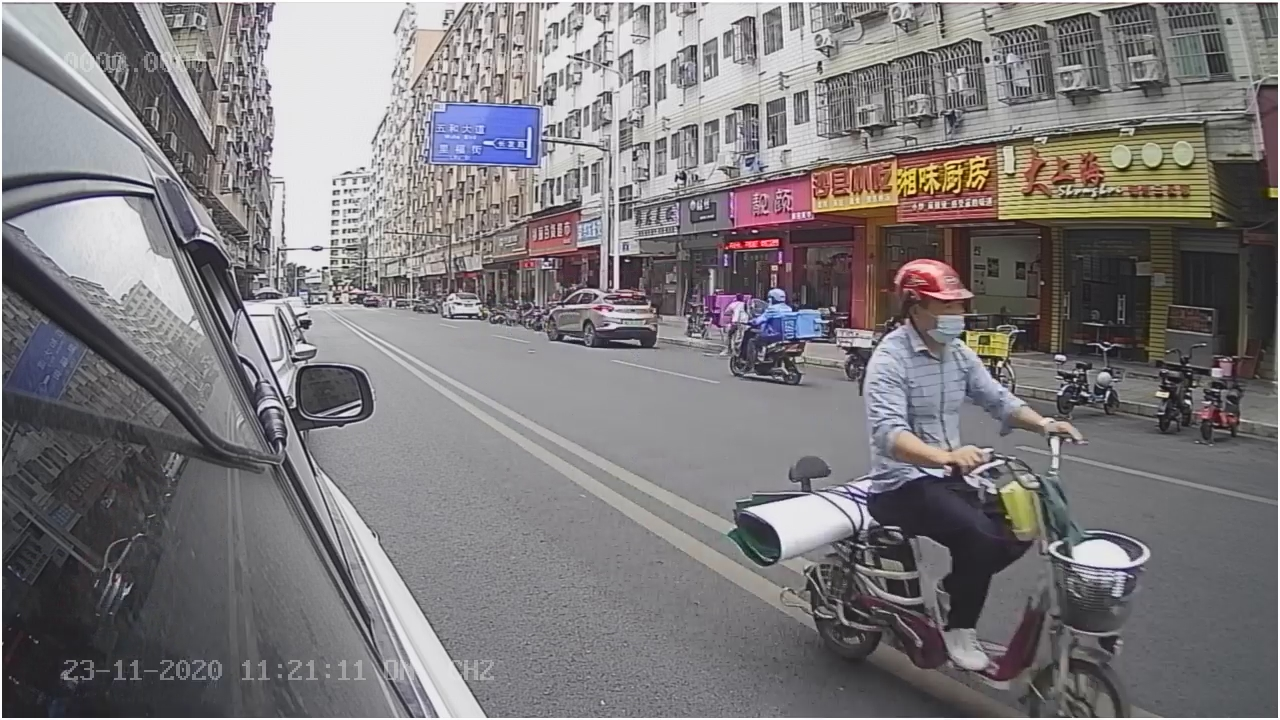person: (860, 251, 1088, 454)
